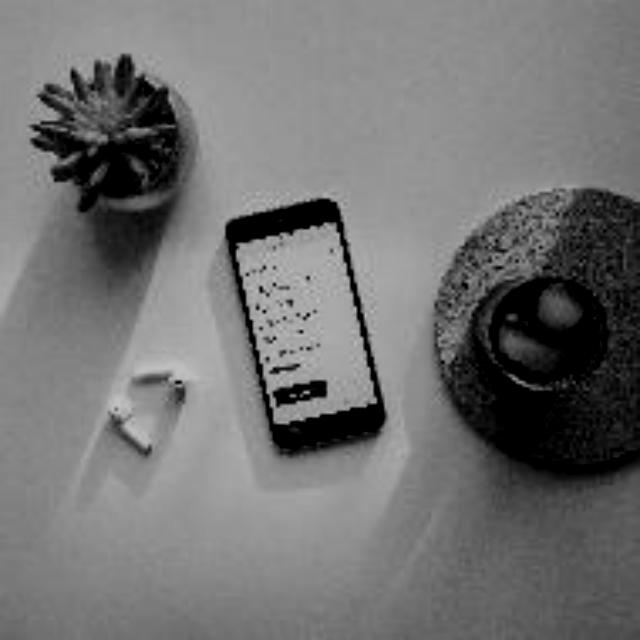fake: (211, 180, 393, 464)
